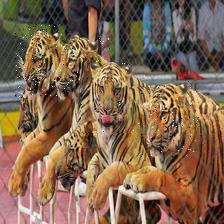tiger: (141, 79, 204, 157), (82, 63, 146, 134), (47, 34, 110, 96), (15, 25, 60, 100)
